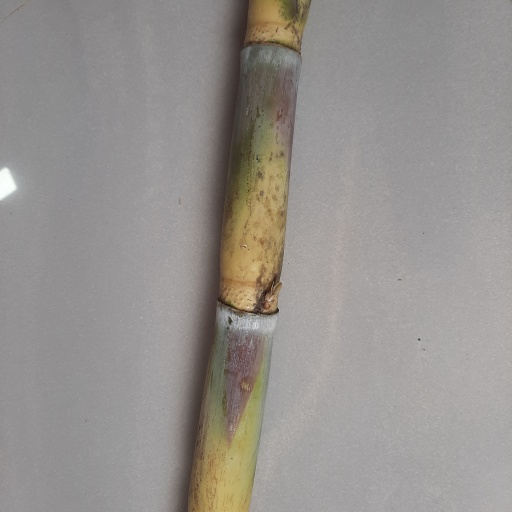Sprouted_Bud: (260, 280, 283, 312)
